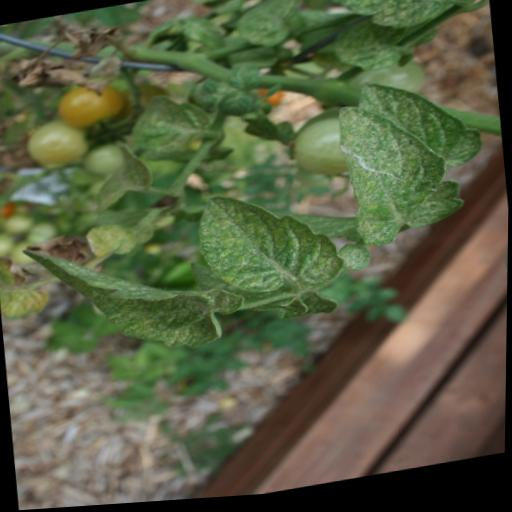Leaf_Miner: (339, 140, 410, 202)
Spider Mites: (20, 217, 230, 380), (331, 93, 473, 256), (193, 179, 350, 310)
